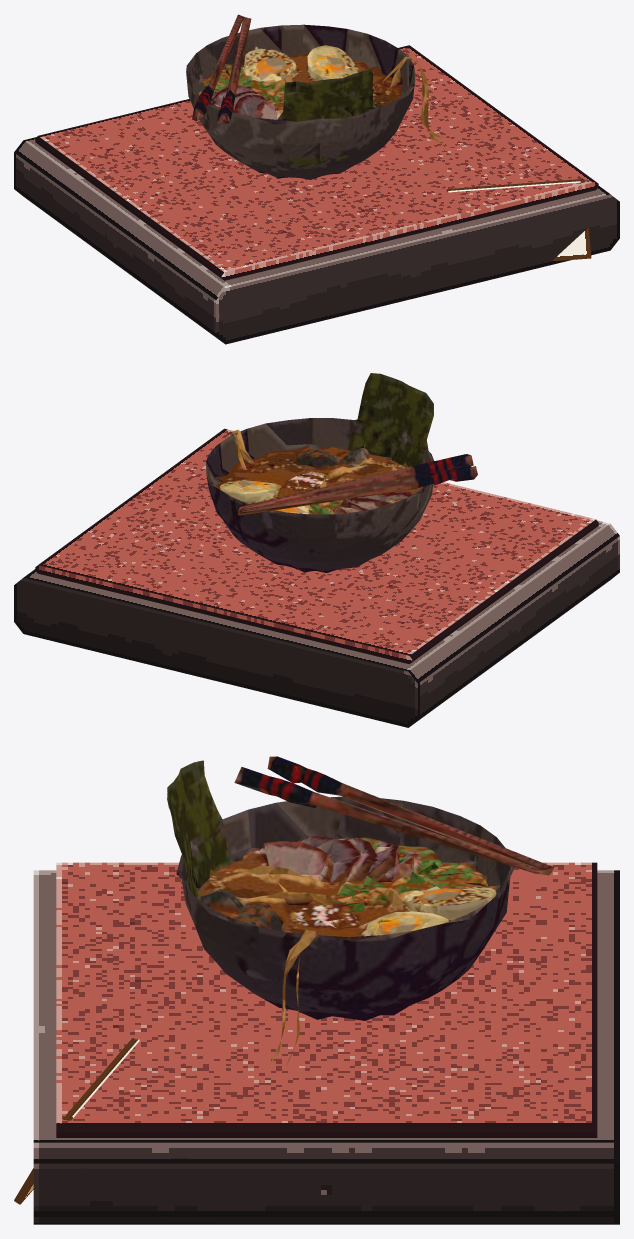
The model's file is ramen.glb.
3 renders of one model, top to bottom at view 1: azimuth 30°, elevation 25°; view 2: azimuth 150°, elevation 25°; view 3: azimuth 270°, elevation 25°, orthographic. The views are drawn at different scales.
Visible parts, largest first — view 1: felt, base, model_bowl, card1; view 2: felt, base, model_bowl; view 3: felt, model_bowl, base, card1.
Part boxes in pixels (box(x1,y1,x2,y2)): felt: box(35, 45, 598, 280); base: box(14, 137, 619, 344); model_bowl: box(186, 14, 443, 179); card1: box(447, 181, 591, 260); felt: box(35, 428, 598, 664); base: box(14, 520, 619, 727); model_bowl: box(206, 373, 477, 572); felt: box(56, 862, 597, 1137); model_bowl: box(167, 756, 553, 1067); base: box(33, 870, 619, 1224); card1: box(14, 1038, 135, 1204).
Bounding box in the file's own units: 30 × 13.84 × 26.87.
Materials: 2 (2 with a texture image).
